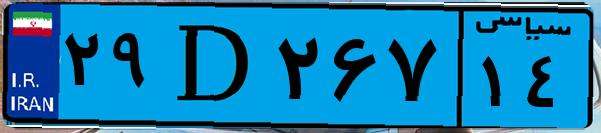1: (475, 38, 525, 113)
2: (270, 28, 330, 110), (57, 26, 110, 100)
4: (525, 38, 570, 115)
6: (330, 28, 385, 110)
7: (385, 28, 445, 110)
9: (110, 28, 158, 98)
D: (158, 12, 270, 120)
